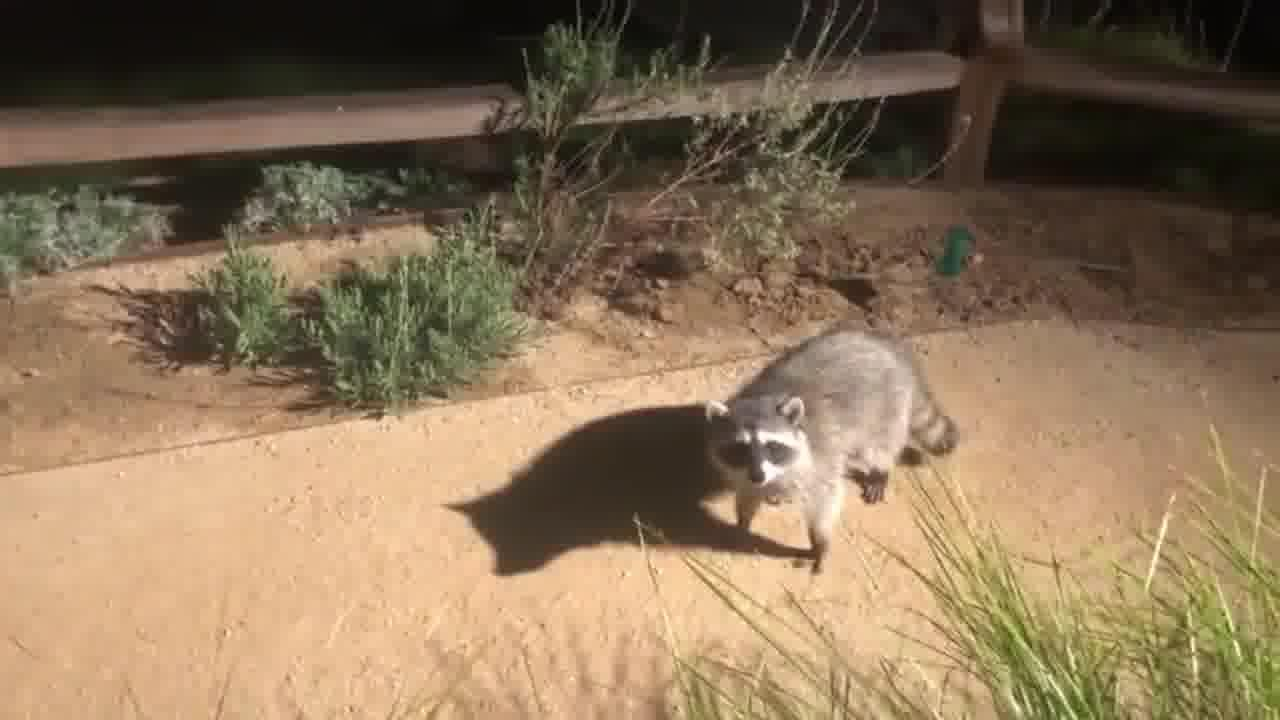raccoon: (703, 327, 965, 578)
